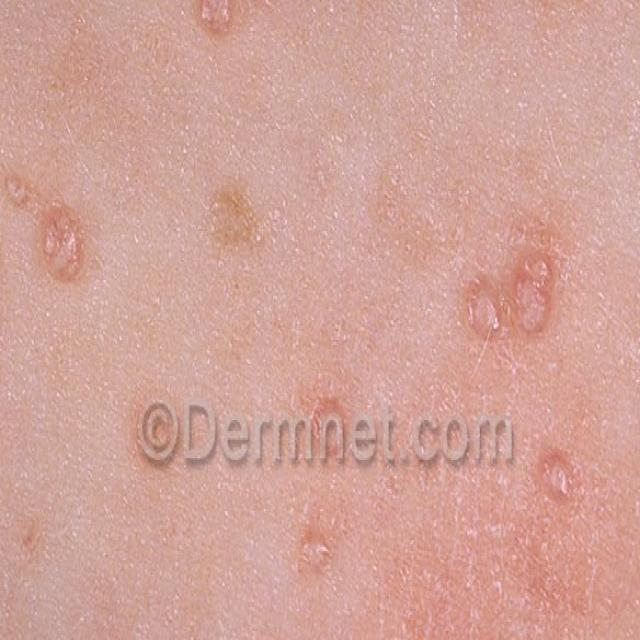Viral Infections: (0, 145, 111, 300), (453, 214, 572, 357), (193, 141, 271, 257), (280, 521, 341, 587), (534, 444, 593, 512), (185, 0, 260, 41), (9, 502, 53, 568)
